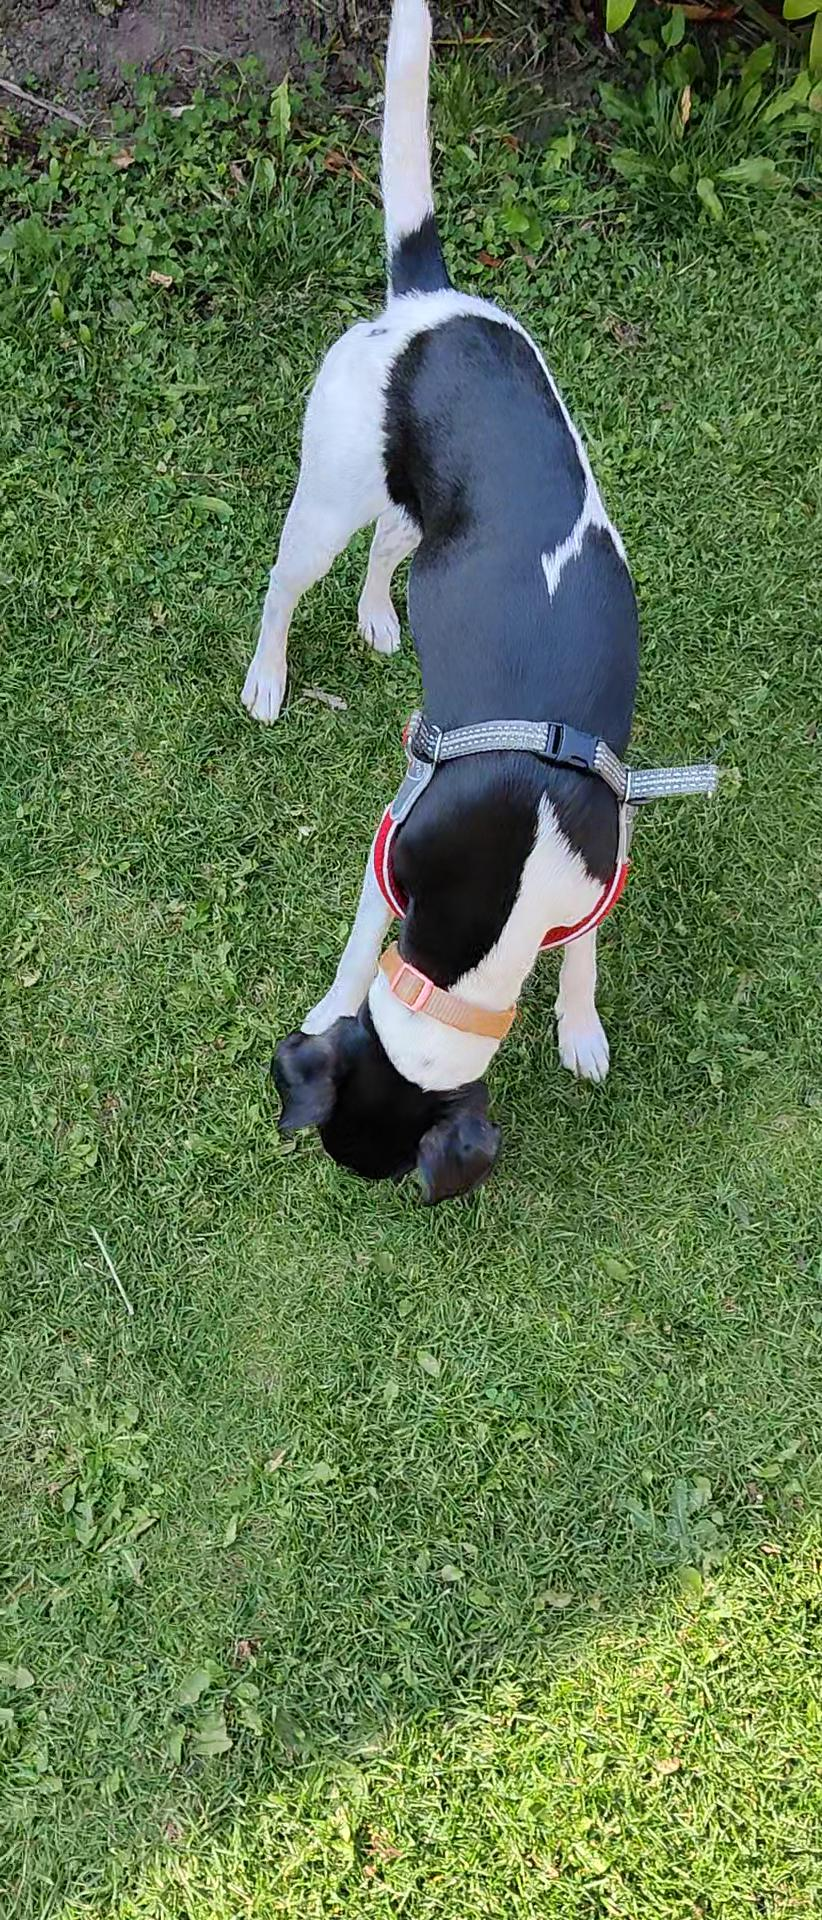Dog: (211, 0, 660, 1248)
